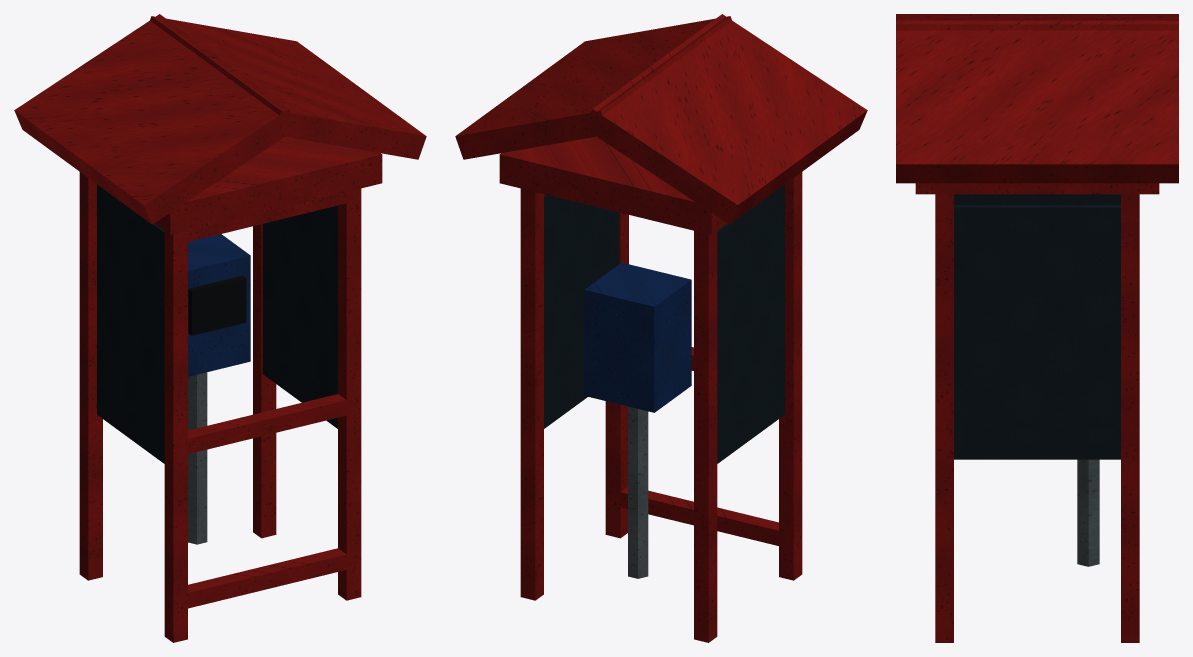
Rendered from PROP-66FA8ACD424A_lod2.glb.
3 renders of one model, left to right at view 1: azimuth 30°, elevation 25°; view 2: azimuth 150°, elevation 25°; view 3: azimuth 270°, elevation 25°, orthographic. The views are drawn at different scales.
Visible parts, largest first — view 1: pagoda_roof_wings.001, booth_posts.001, booth_glazing.001, booth_roof.001, booth_front_rails.001, cabinet.009, fixture_post.004, recessed_front.009; view 2: pagoda_roof_wings.001, booth_posts.001, booth_glazing.001, cabinet.009, booth_roof.001, fixture_post.004, booth_front_rails.001; view 3: pagoda_roof_wings.001, booth_glazing.001, booth_posts.001, booth_roof.001, fixture_post.004.
Part boxes in pixels (x1=…): pagoda_roof_wings.001: x1=14, y1=14, x2=426, y2=224; booth_posts.001: x1=79, y1=172, x2=361, y2=642; booth_glazing.001: x1=97, y1=184, x2=337, y2=463; booth_roof.001: x1=154, y1=136, x2=382, y2=234; booth_front_rails.001: x1=175, y1=189, x2=359, y2=608; cabinet.009: x1=188, y1=234, x2=250, y2=376; fixture_post.004: x1=188, y1=372, x2=207, y2=544; recessed_front.009: x1=188, y1=275, x2=246, y2=335; pagoda_roof_wings.001: x1=455, y1=14, x2=867, y2=224; booth_posts.001: x1=520, y1=172, x2=802, y2=642; booth_glazing.001: x1=544, y1=184, x2=784, y2=463; cabinet.009: x1=584, y1=262, x2=691, y2=412; booth_roof.001: x1=499, y1=136, x2=727, y2=234; fixture_post.004: x1=628, y1=406, x2=648, y2=578; booth_front_rails.001: x1=607, y1=347, x2=791, y2=545; pagoda_roof_wings.001: x1=896, y1=14, x2=1178, y2=183; booth_glazing.001: x1=954, y1=194, x2=1120, y2=459; booth_posts.001: x1=935, y1=194, x2=1139, y2=642; booth_roof.001: x1=915, y1=183, x2=1159, y2=194; fixture_post.004: x1=1077, y1=459, x2=1099, y2=566.
Size of the model in its own units: 1.53 by 2.71 by 1.22.
5 materials, 5 textured.
